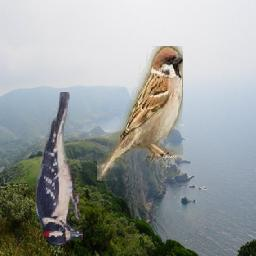Sparrow: (97, 47, 183, 182)
Woodpecker: (33, 93, 83, 248)
